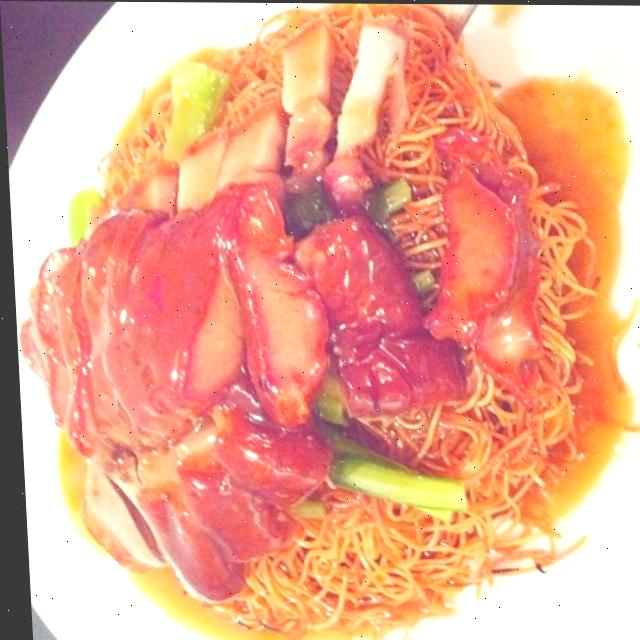面条主食: (9, 17, 621, 640)
